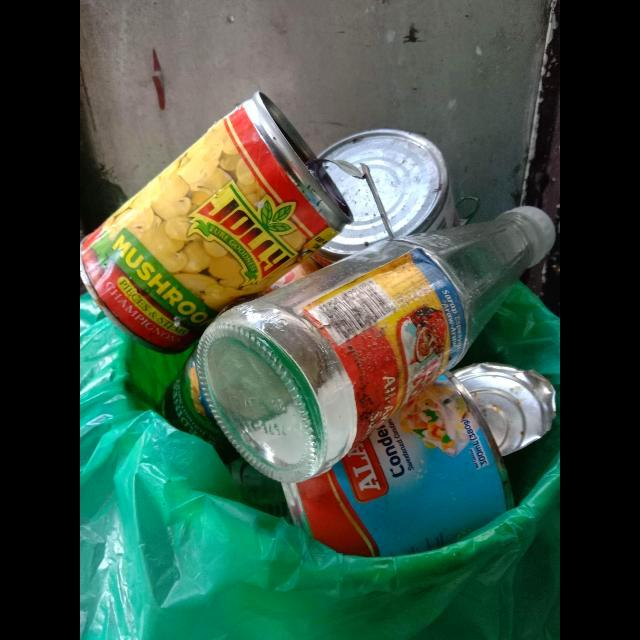aluminum: (80, 91, 395, 355), (281, 362, 557, 558), (311, 129, 480, 267)
glass_bottle: (198, 206, 556, 484)
